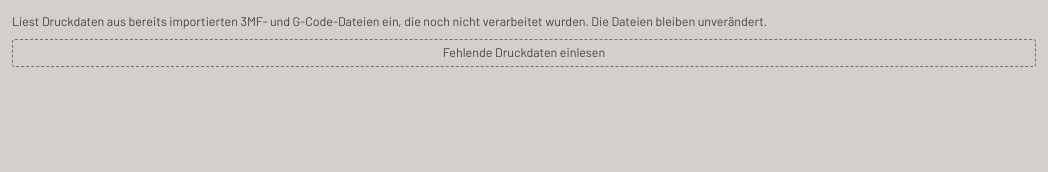
Test: web: reads without the desktop-only lean argument
Step 1. Click the button "Fehlende Druckdaten einlesen" → [524, 53], box [12,39,1036,67]
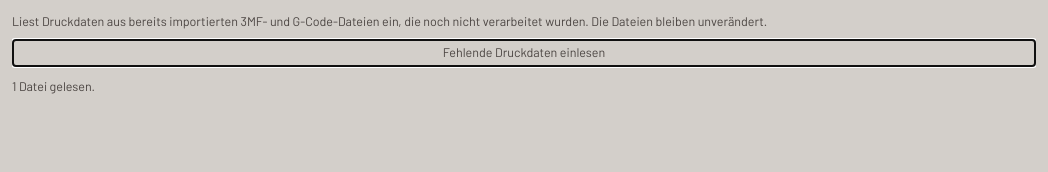
Expected: the text "1 Datei gelesen." is shown, [12,78,95,94]
